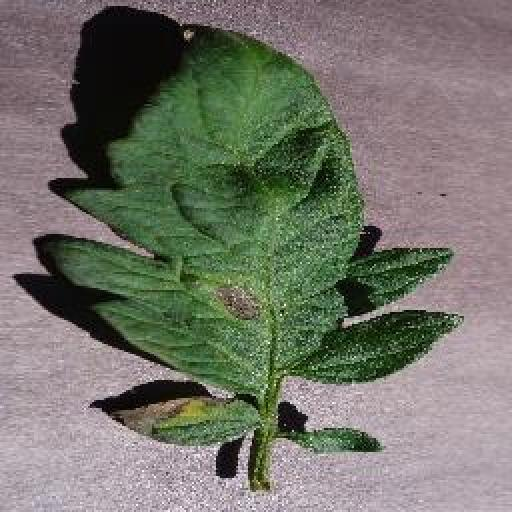Early Blight: (38, 28, 463, 452)
